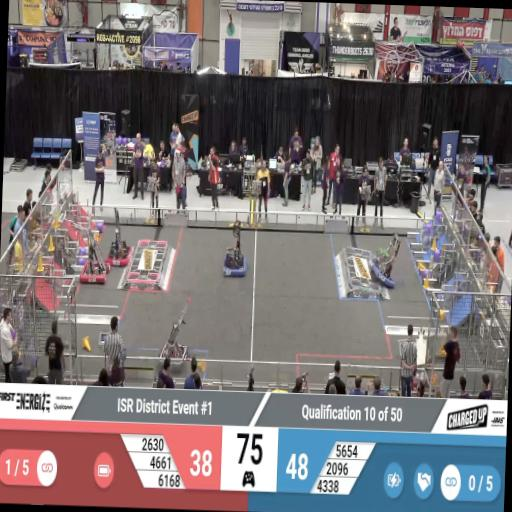robot: (155, 326, 190, 373), (370, 239, 404, 284), (76, 250, 110, 292), (220, 242, 249, 279), (106, 231, 132, 269)
